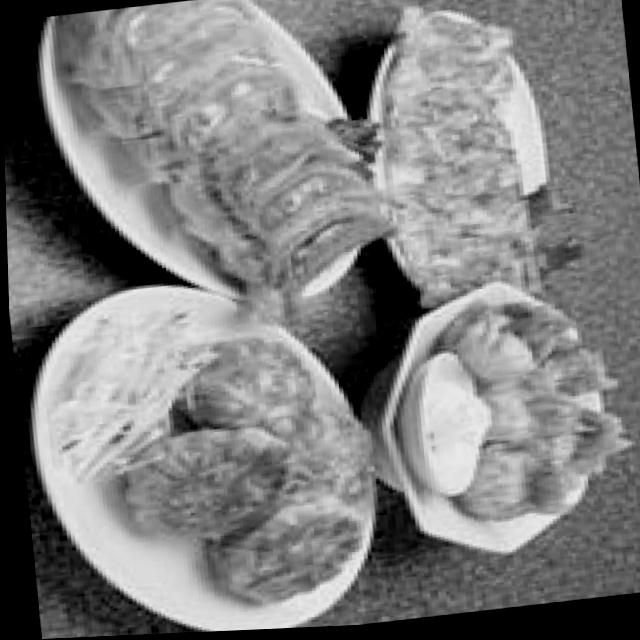带馅早点: (33, 0, 586, 353)
